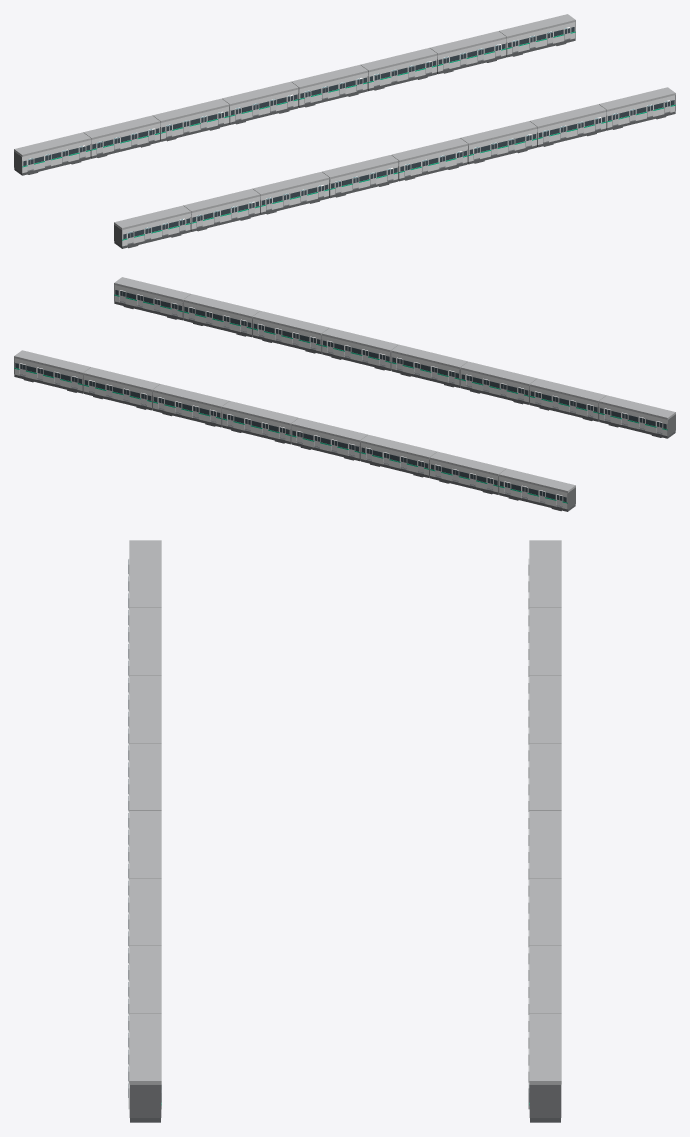
The model's file is Z5_TRAIN.glb.
3 views of the same model, one above another, from view 1: azimuth 30°, elevation 25°; view 2: azimuth 150°, elevation 25°; view 3: azimuth 270°, elevation 25° (orthographic). The views are drawn at different scales.
Visible parts, largest first — view 1: B_TR_in_body, TR_in_body, B_TR_roof_0, TR_roof_0, TR_roof_5, TR_roof_7, B_TR_roof_1, B_TR_roof_5, TR_roof_2, TR_roof_6, B_TR_roof_2, TR_roof_1 (+8 smaller); view 2: B_TR_in_body, TR_in_body, TR_roof_0, B_TR_roof_0, TR_roof_1, TR_roof_5, B_TR_roof_5, B_TR_roof_7, TR_roof_2, B_TR_roof_2, B_TR_roof_6, TR_roof_4 (+8 smaller); view 3: TR_roof_7, B_TR_roof_7, TR_roof_2, B_TR_roof_2, TR_roof_0, TR_roof_1, TR_roof_3, TR_roof_4, TR_roof_5, TR_roof_6, B_TR_roof_0, B_TR_roof_1 (+6 smaller).
Part boxes in pixels (x1,y1,x2,y2): B_TR_in_body: (22,22,575,160); TR_in_body: (122,95,675,233); B_TR_roof_0: (14,132,90,156); TR_roof_0: (114,205,190,229); TR_roof_5: (460,121,537,145); TR_roof_7: (599,87,675,111); B_TR_roof_1: (83,115,160,139); B_TR_roof_5: (360,48,437,72); TR_roof_2: (252,171,329,195); TR_roof_6: (530,104,606,128); B_TR_roof_2: (152,98,229,122); TR_roof_1: (183,188,260,212); B_TR_in_body: (14,358,567,496); TR_in_body: (114,285,667,423); TR_roof_0: (599,395,675,419); B_TR_roof_0: (499,468,575,492); TR_roof_1: (529,378,606,402); TR_roof_5: (252,311,329,335); B_TR_roof_5: (152,384,229,408); B_TR_roof_7: (14,350,90,374); TR_roof_2: (460,361,537,385); B_TR_roof_2: (360,434,437,458); B_TR_roof_6: (83,367,159,391); TR_roof_4: (322,328,398,352); TR_roof_7: (129,1013,161,1084); B_TR_roof_7: (529,1013,561,1084); TR_roof_2: (129,675,161,743); B_TR_roof_2: (529,675,561,743); TR_roof_0: (129,540,161,607); TR_roof_1: (129,608,161,675); TR_roof_3: (129,743,161,810); TR_roof_4: (129,811,161,878); TR_roof_5: (129,878,161,945); TR_roof_6: (129,946,161,1013); B_TR_roof_0: (529,540,561,607); B_TR_roof_1: (529,608,561,675).
Size of the model in its own units: 128 by 5.12 by 43.32.
